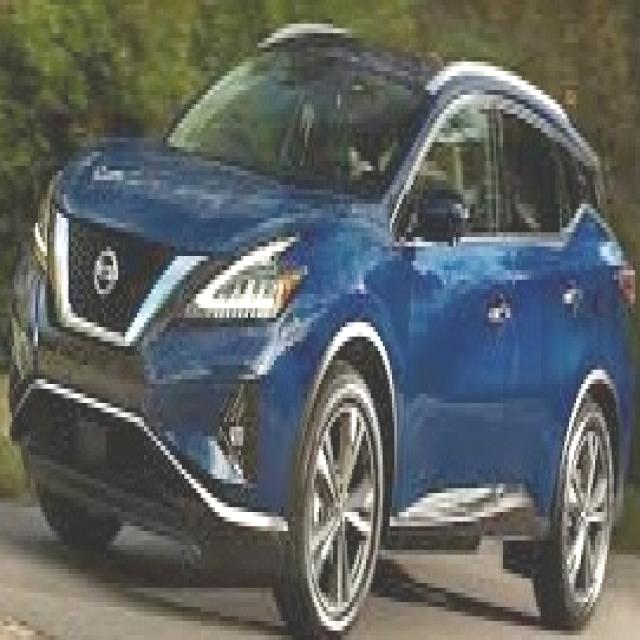blue: (7, 9, 638, 640)
